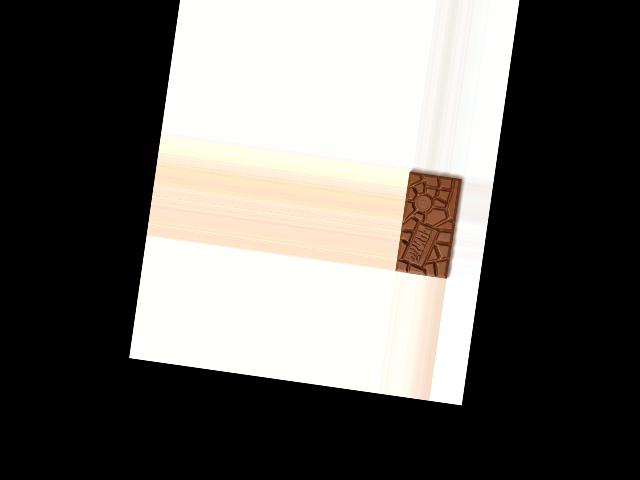chocolate: (395, 170, 464, 279)
